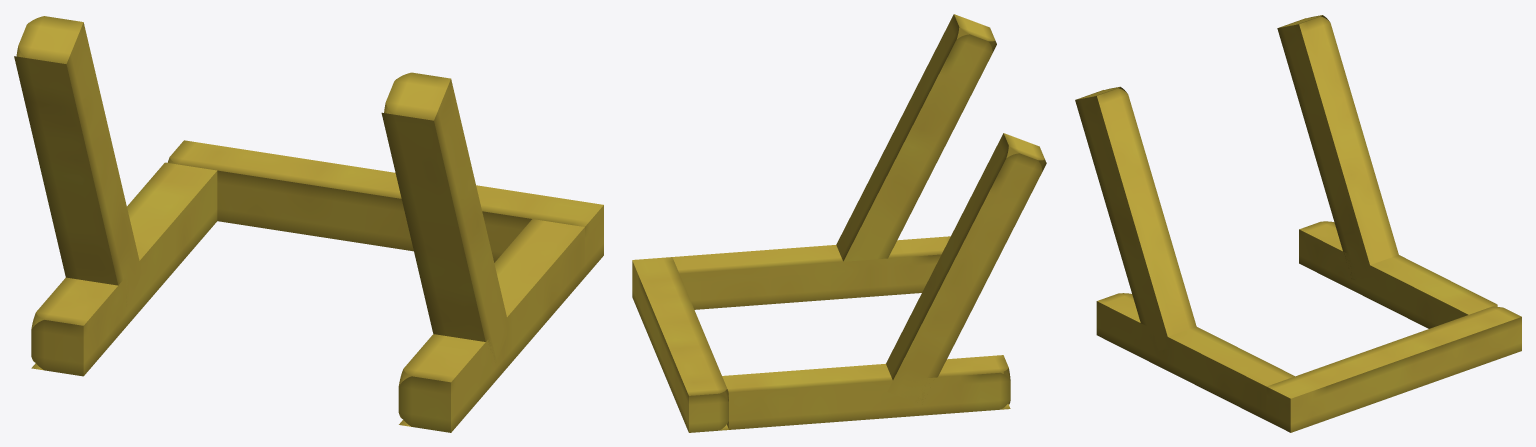
The model's file is hazard_lamp.obj.
3 views of the same model, side by side, from view 1: azimuth 30°, elevation 25°; view 2: azimuth 150°, elevation 25°; view 3: azimuth 270°, elevation 25° (orthographic). The views are drawn at different scales.
Visible parts, largest first — view 1: li, lm, ll, lk, lj; view 2: ll, lk, lm, lj, li; view 3: li, ll, lm, lj, lk.
Boxes of the visible parts, x1=… form: li: x1=167, y1=140, x2=603, y2=276; lm: x1=381, y1=72, x2=509, y2=362; ll: x1=14, y1=16, x2=142, y2=303; lk: x1=31, y1=162, x2=217, y2=376; lj: x1=398, y1=219, x2=584, y2=432; ll: x1=886, y1=133, x2=1046, y2=402; lk: x1=722, y1=355, x2=1010, y2=429; lm: x1=836, y1=14, x2=996, y2=261; lj: x1=672, y1=236, x2=950, y2=309; li: x1=632, y1=257, x2=728, y2=432; li: x1=1266, y1=307, x2=1521, y2=432; ll: x1=1277, y1=15, x2=1398, y2=279; lm: x1=1075, y1=86, x2=1196, y2=350; lj: x1=1096, y1=293, x2=1294, y2=420; lk: x1=1299, y1=221, x2=1497, y2=328.
Bounding box in the file's own units: 0.7474 × 0.4375 × 0.7405.
1 material, 1 textured.
